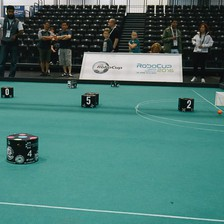ball: (216, 107, 223, 114)
robot: (5, 131, 41, 165), (177, 96, 196, 112), (81, 93, 97, 109), (1, 85, 14, 98), (66, 79, 78, 90), (109, 79, 119, 87)
